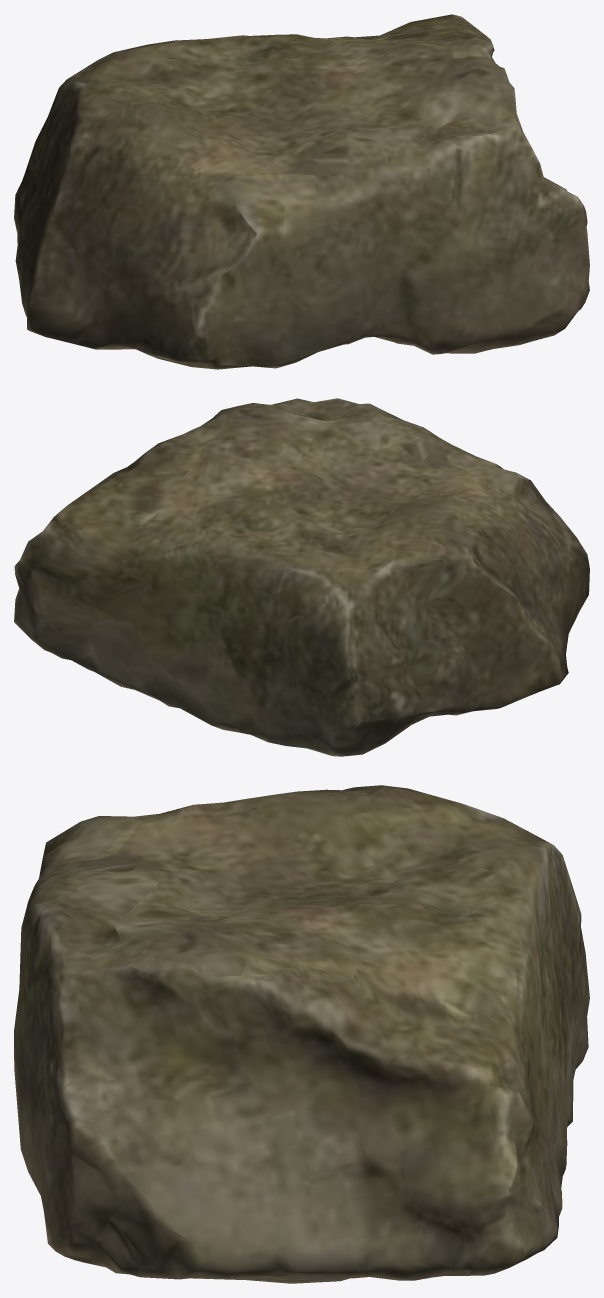
Rendered from rock-a.glb.
3 renders of one model, top to bottom at view 1: azimuth 30°, elevation 25°; view 2: azimuth 150°, elevation 25°; view 3: azimuth 270°, elevation 25°, orthographic. The views are drawn at different scales.
Visible parts, largest first — view 1: rock_moss_set_02_rock07; view 2: rock_moss_set_02_rock07; view 3: rock_moss_set_02_rock07.
Boxes of the visible parts, x1,y1,x2,y2 form: rock_moss_set_02_rock07: (14, 14, 589, 369); rock_moss_set_02_rock07: (14, 398, 589, 756); rock_moss_set_02_rock07: (14, 785, 589, 1283).
Size of the model in its own units: 1.69 by 0.743 by 1.22.
Materials: 1 (1 with a texture image).
